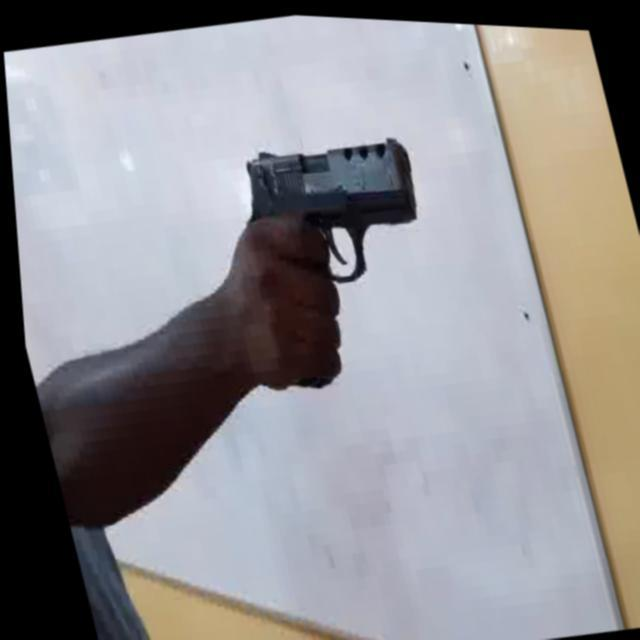weapon: (230, 120, 436, 298)
